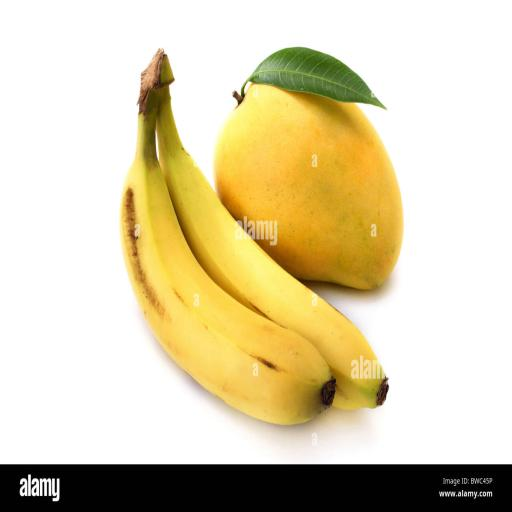banana: (121, 52, 334, 424), (157, 87, 388, 409)
mango: (214, 85, 402, 289)
